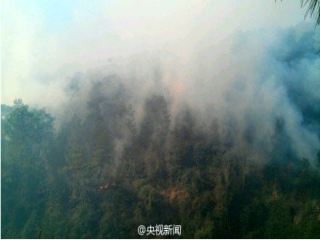smoke: (188, 40, 313, 165)
